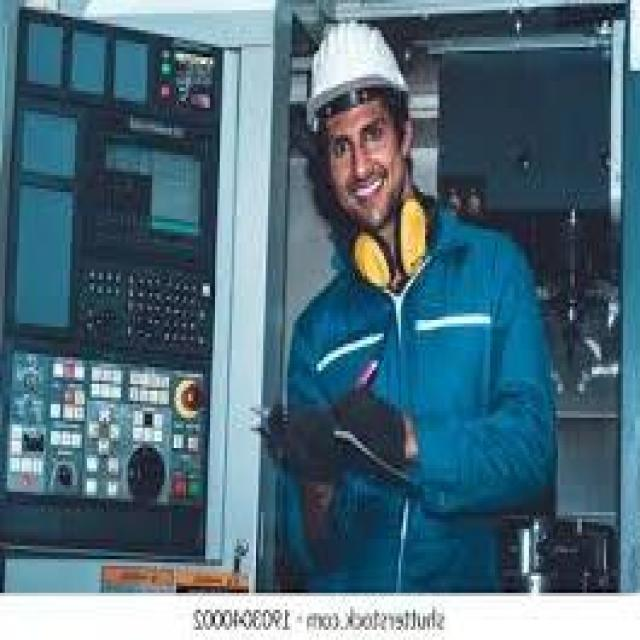Safety-Helmet: (300, 17, 422, 131)
